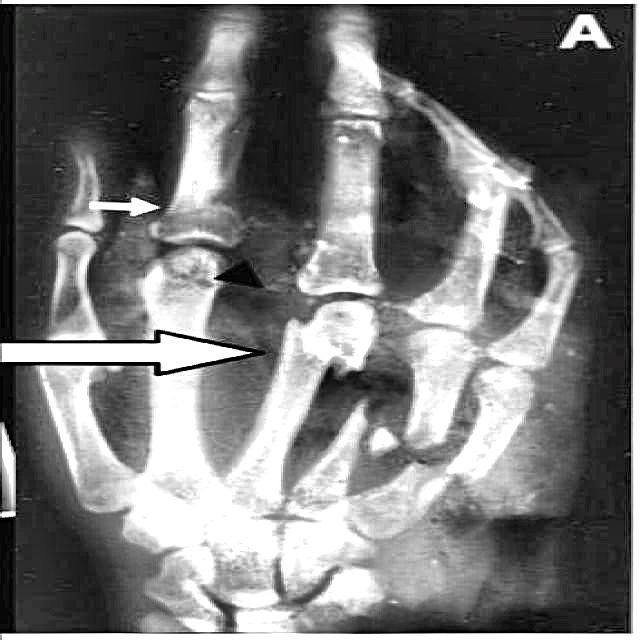Oblique Displaced: (276, 299, 378, 377)
Segmental: (341, 394, 443, 461)
Transverse Displaced: (401, 451, 482, 500)
